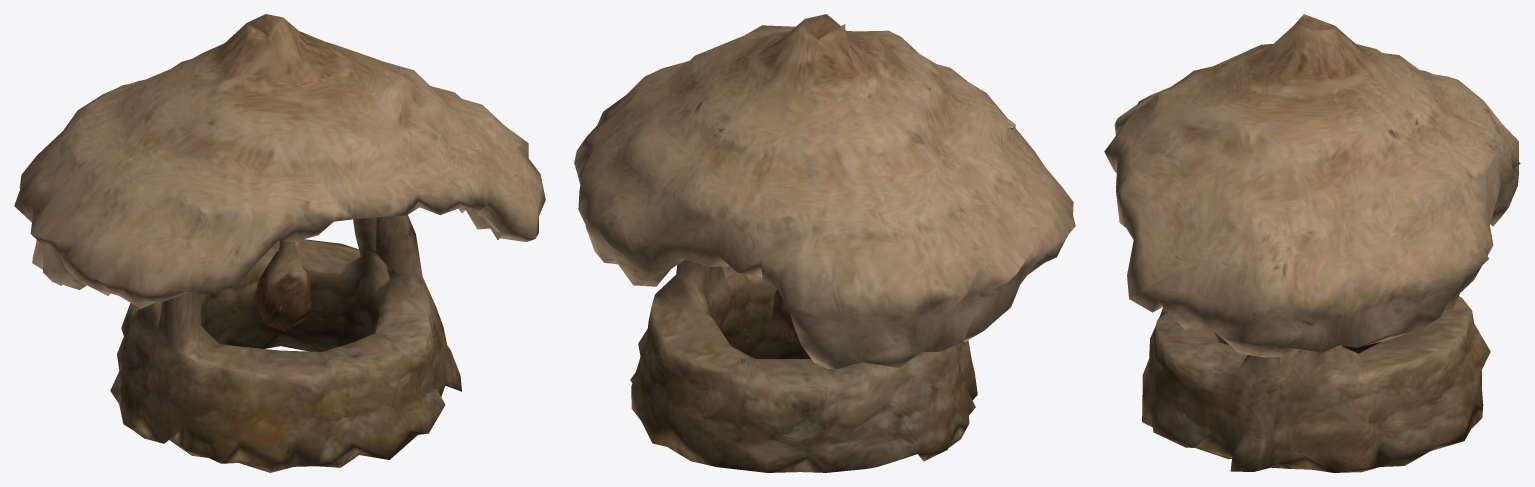
Rendered from well.glb.
The picture shows the model from 3 angles, left to right: view 1: azimuth 30°, elevation 25°; view 2: azimuth 150°, elevation 25°; view 3: azimuth 270°, elevation 25°; orthographic projection. The views are drawn at different scales.
Parts seen in each view (by area): view 1: model; view 2: model; view 3: model.
Boxes of the visible parts, bbox=[...] form: model: bbox=[14, 14, 545, 472]; model: bbox=[574, 14, 1075, 472]; model: bbox=[1104, 14, 1520, 472].
Bounding box in the file's own units: 1 × 0.8184 × 0.8046.
1 material, 1 textured.
